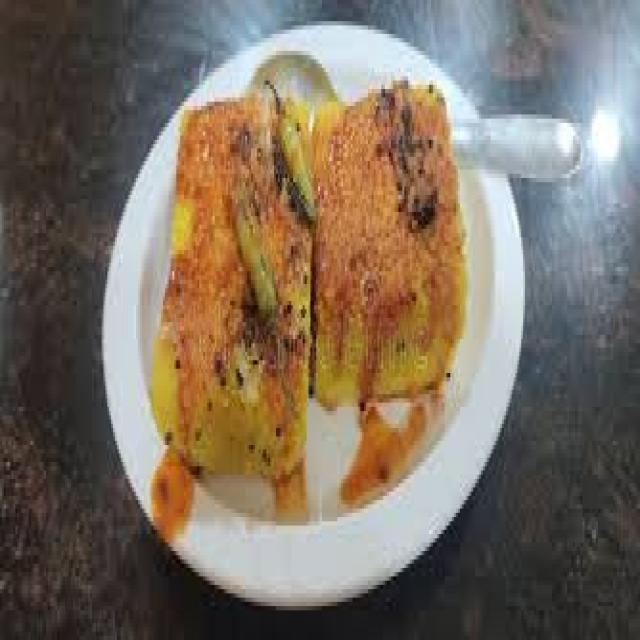DHOKLA: (151, 93, 339, 509), (314, 81, 464, 398)
